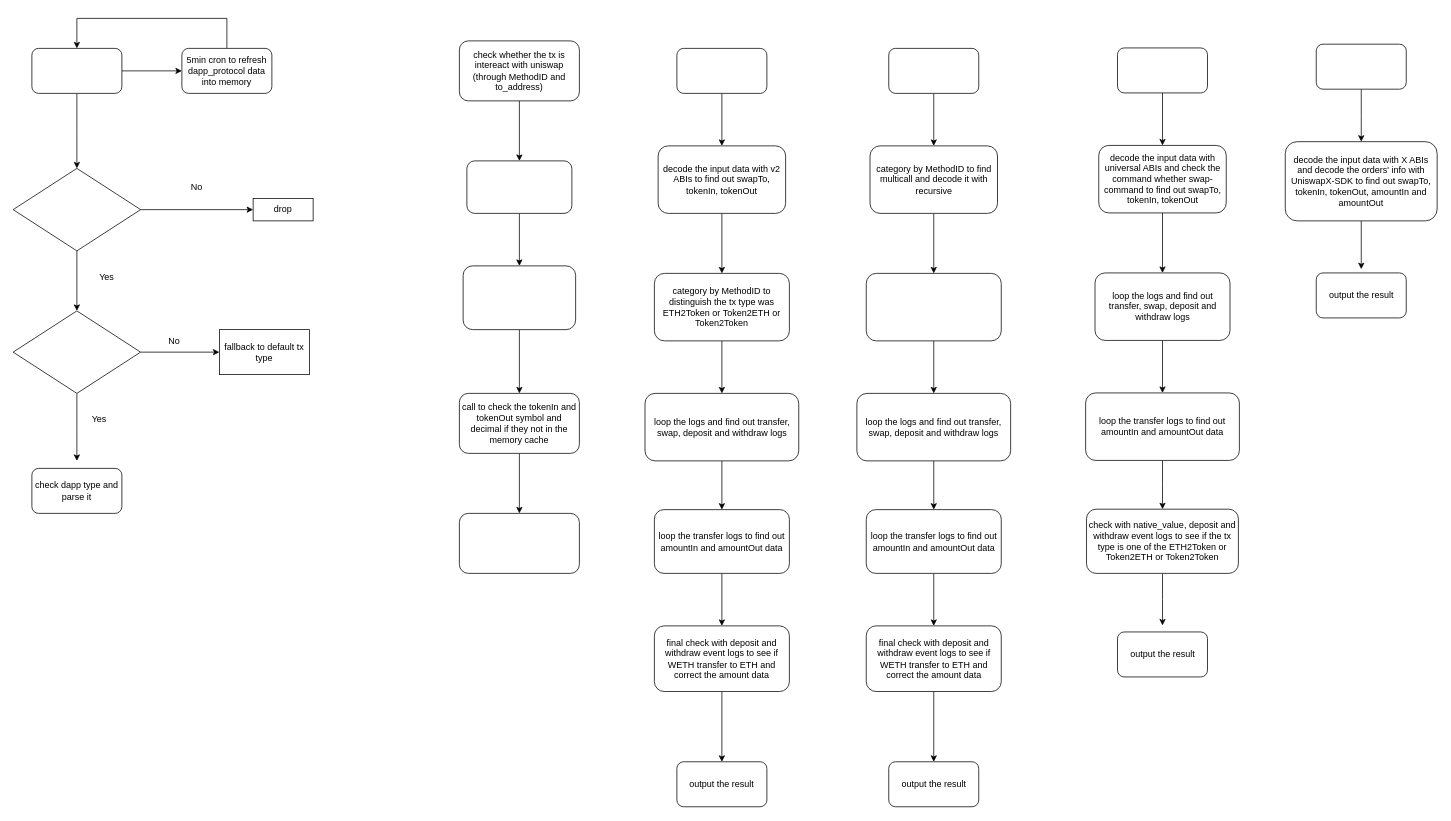
Image size: 1451x821. Some labels were removed from this diagram. The box of each missing label's shape, as (x1, y1, x2, y2) in pixels:
check to address with the dapp_protocol: (12, 310, 141, 393)
dapp_protocol (init process): (31, 48, 122, 93)
decode the input data with v3 ABIs to find out swapTo, tokenIn, tokenOut: (866, 273, 1001, 341)
from or to or input data have our user's wallet address: (12, 168, 141, 251)
generate final results with token_in_symbol and token_out_symbol: (459, 513, 579, 573)
judge the uniswap version and use different parse logic: (466, 160, 572, 213)
output swapTo, tokenIn, tokenOut, amountIn, amountOut: (462, 265, 576, 330)
uniswap-universal: (1117, 47, 1208, 93)
uniswap-v2: (676, 48, 767, 93)
uniswap-v3: (888, 48, 979, 93)
uniswap-x: (1316, 43, 1406, 89)
